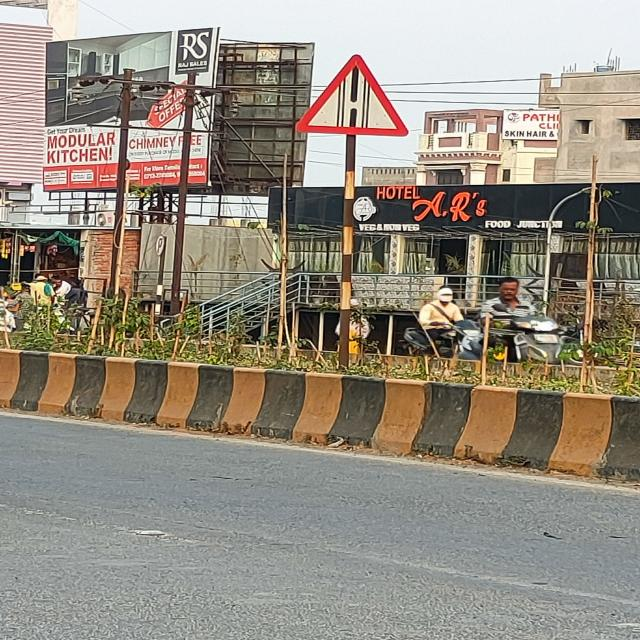GAP_IN_MEDIAN: (290, 54, 406, 136)
